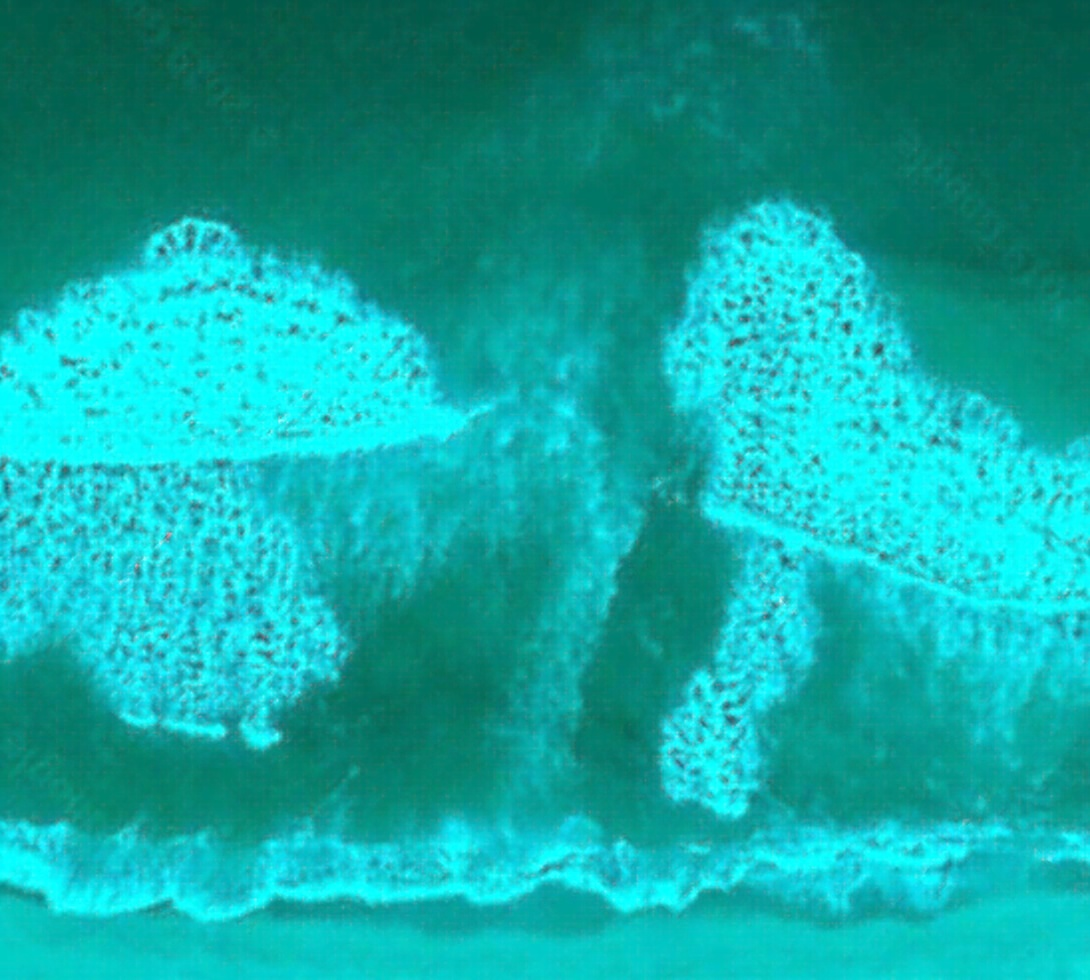rip_current: (296, 239, 586, 794)
